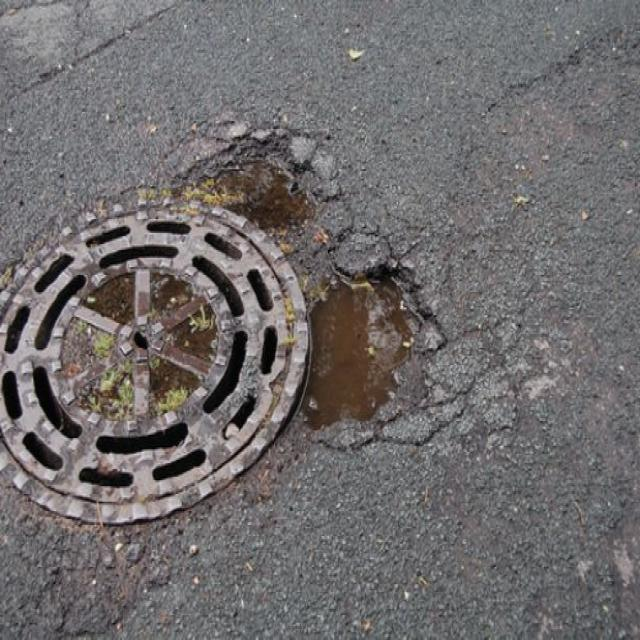pothole: (298, 246, 438, 444), (200, 120, 336, 232)
